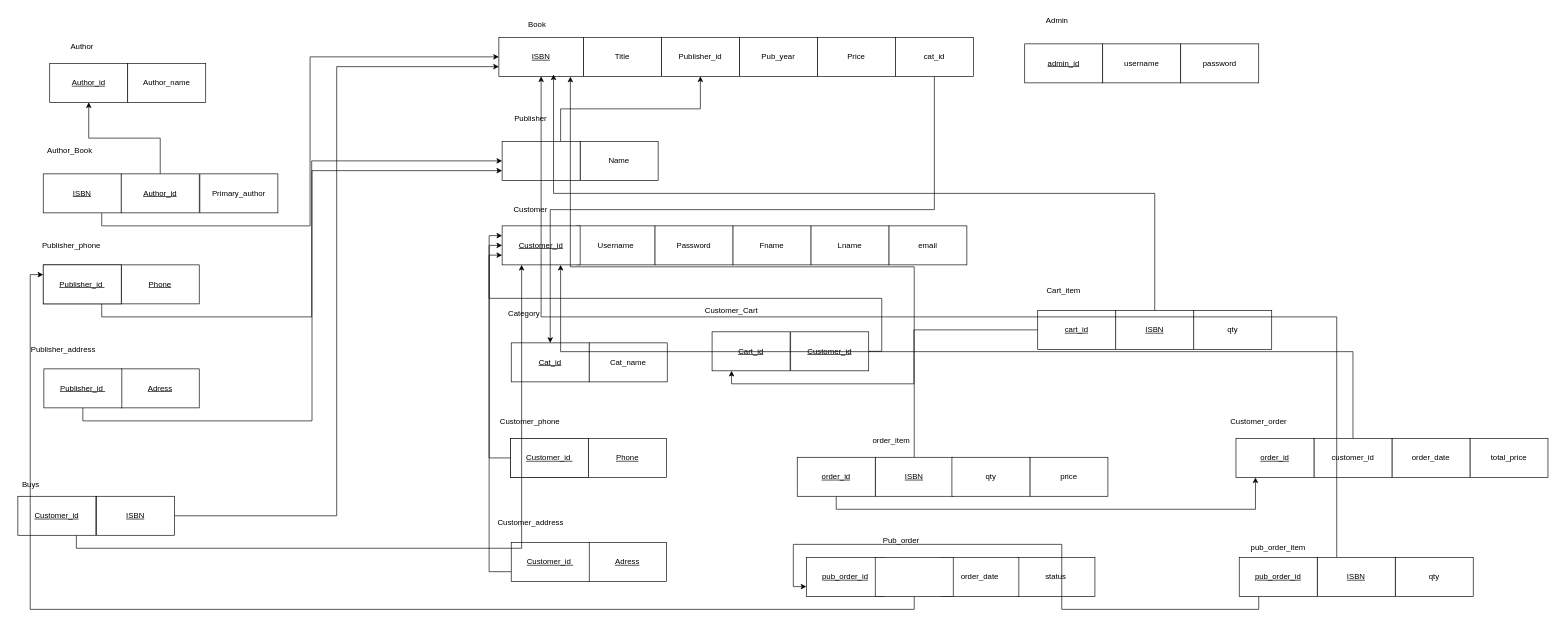
The diagram is 1559 pixels wide and 626 high, and some of its shapes have lost their labels. Each missing label, with the centre of its shape:
pblisher_id: the point at 914,576
Pubisher_id: the point at 540,160
